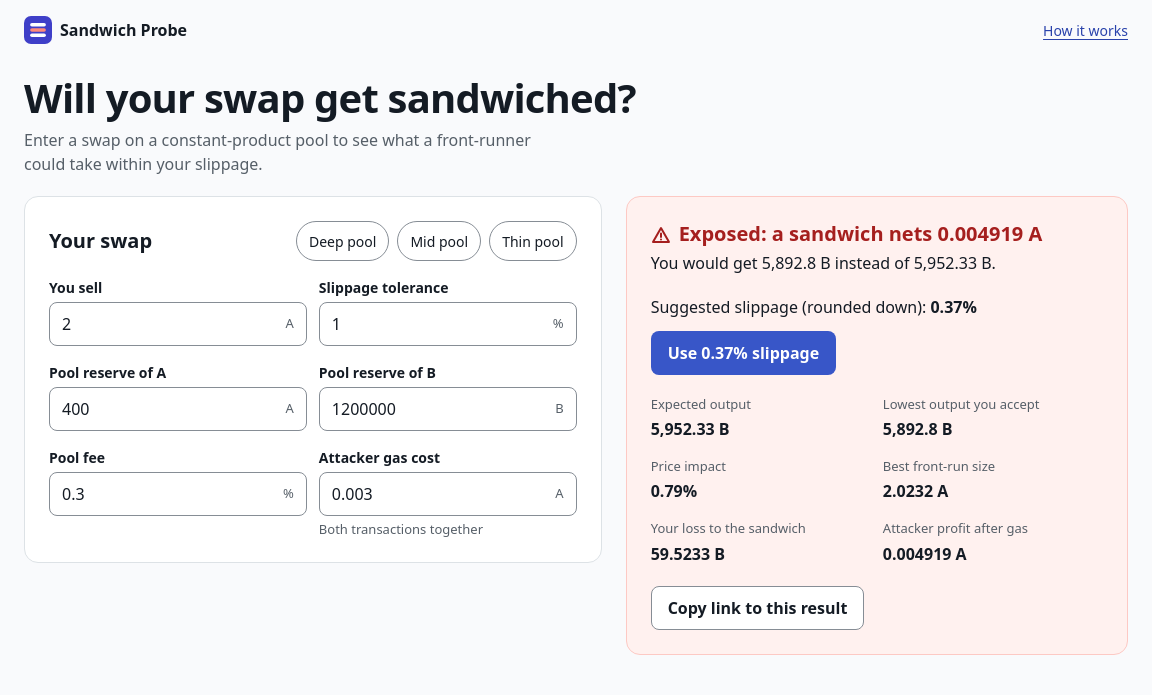
Test case: App › shows an inline error, marks the field invalid and recovers
This screenshot has width=1152, height=695.
Clear the field labelled "Pool reserve of B" at (438, 409), box 320,389 -> 555,429
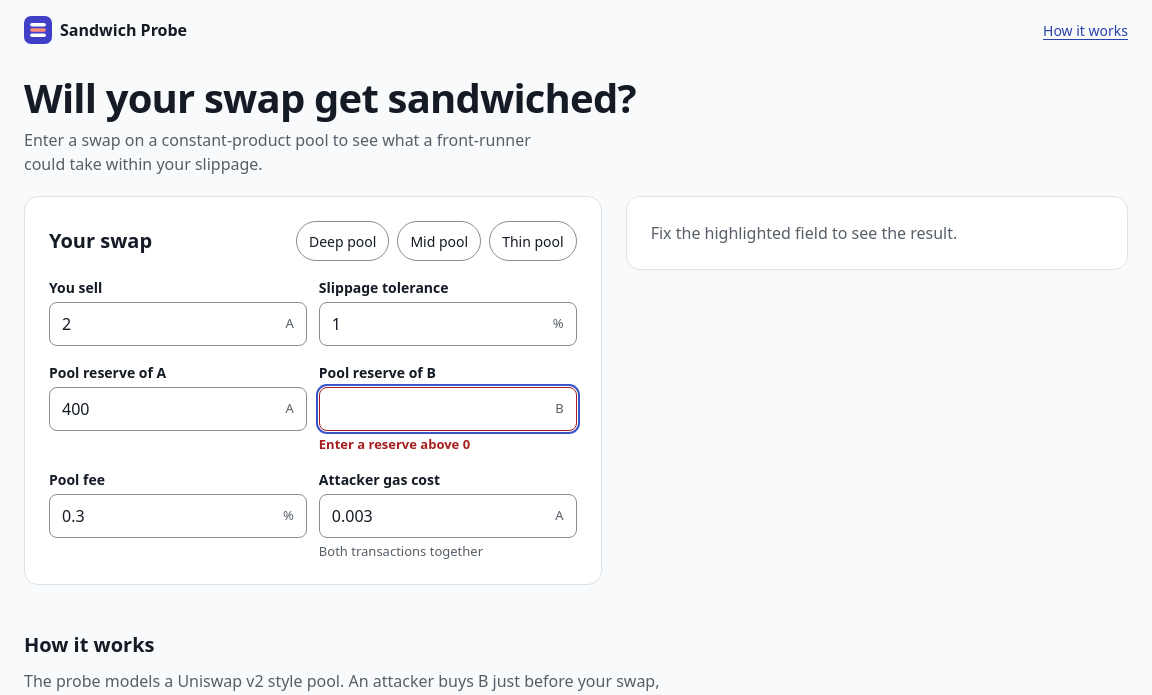
Expected: the text "Enter a reserve above 0" is shown, 319,435 -> 470,453
Expected: the message reads "Fix the highlighted field to see the result.", 651,222 -> 957,244
Type "1,200,000" into the field labelled "Pool reserve of B" at (438, 409), box 320,389 -> 555,429
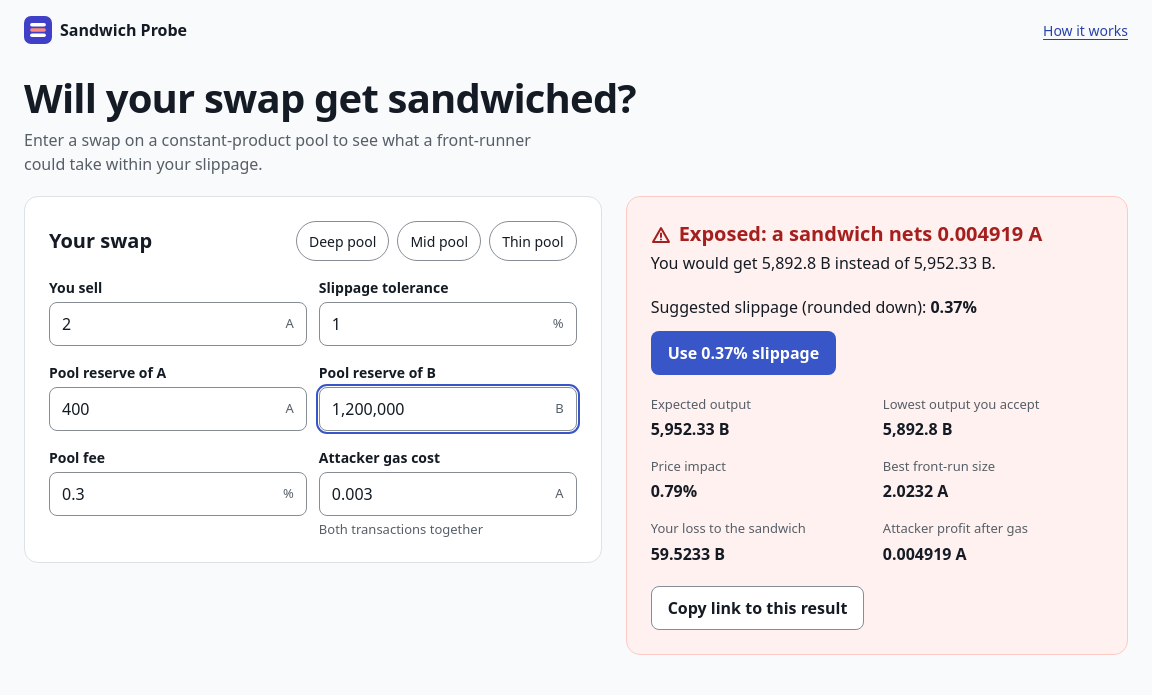
Expected: the message shows "Exposed", 679,220 -> 938,247
